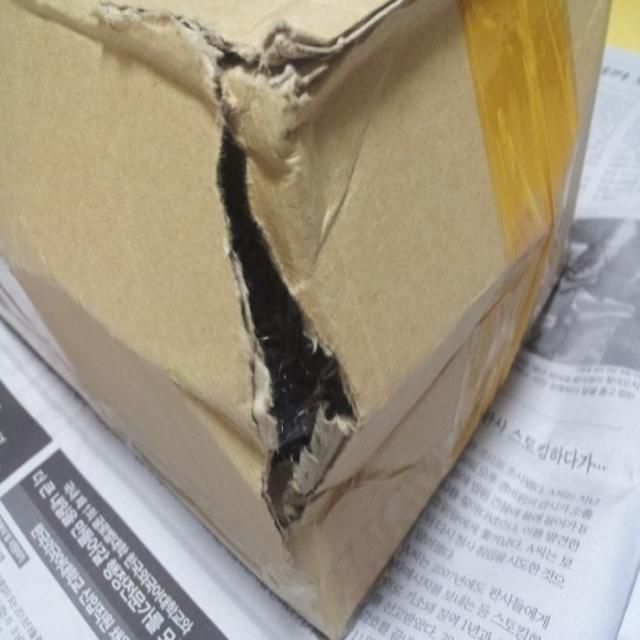hole: (197, 41, 407, 533)
